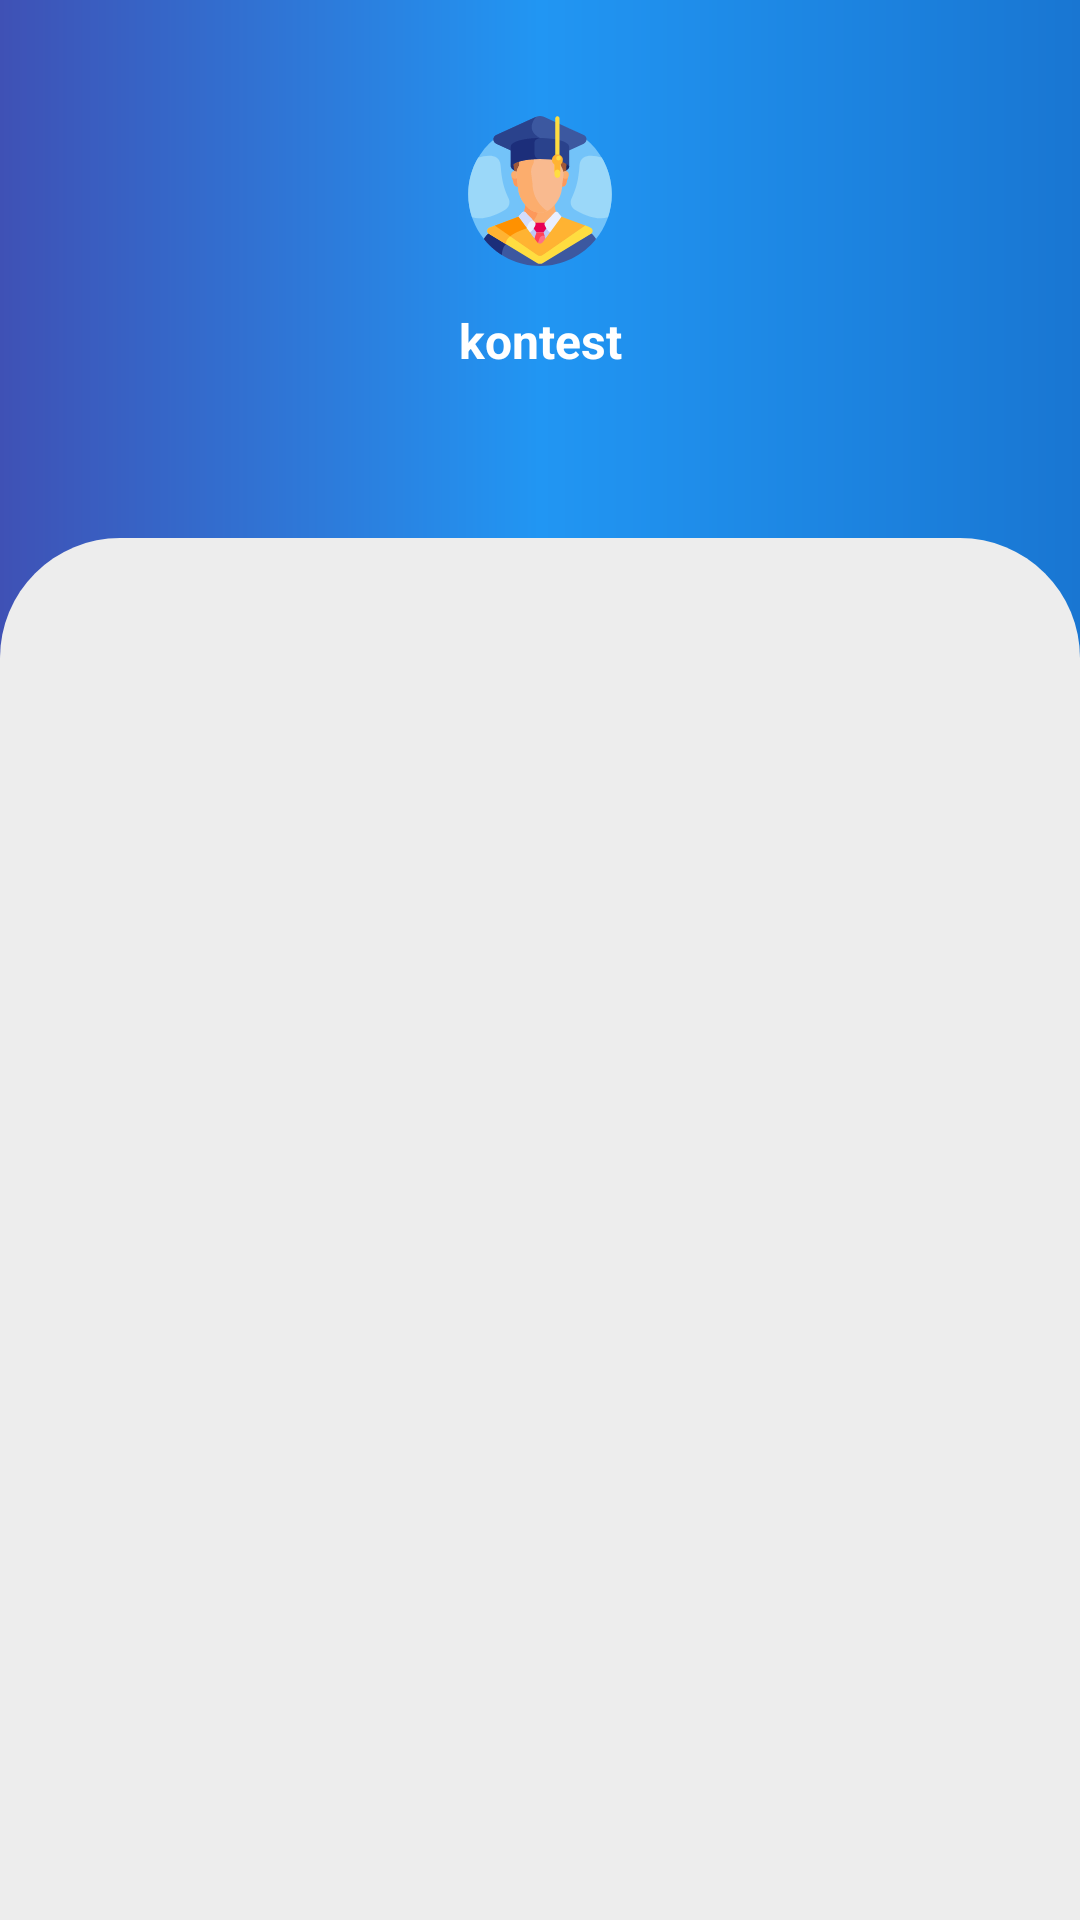

Screen size 1080 x 1920. Icon name, then its box in pixels as (x1,y1,x2,y2):
graduate: (468,116,612,266)
